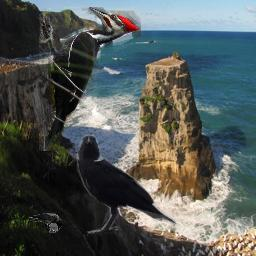Crow: (76, 134, 177, 234), (27, 213, 62, 233)
Woodpecker: (39, 7, 141, 151)
